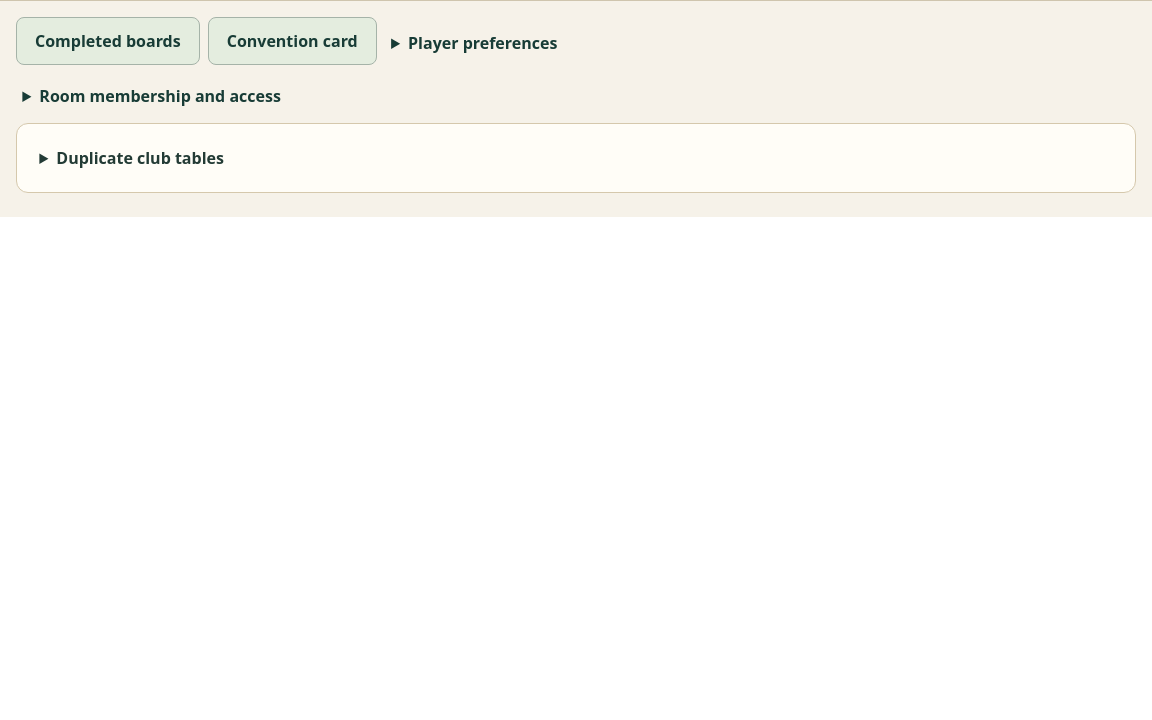
Test case: duplicate club membership and comparison release › hides frozen membership mutation controls in waiting event rooms
Click the heading "Room membership and access".
click(160, 96)  # box [39, 85, 281, 107]
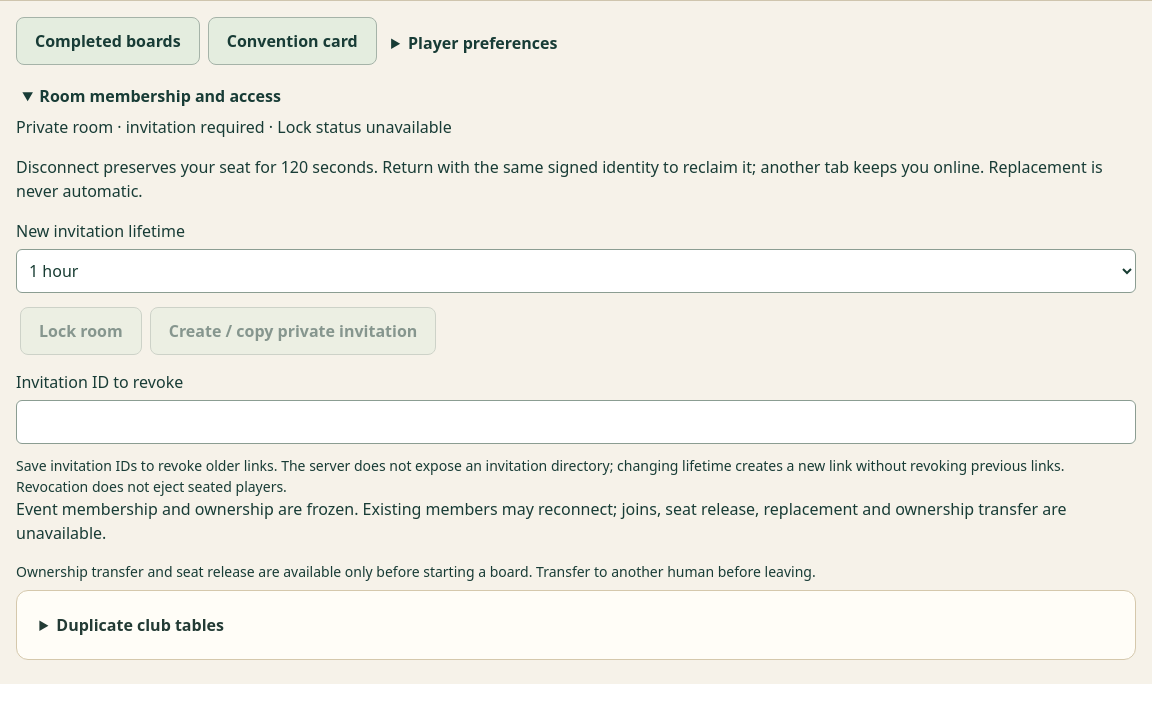
Result: the button "Create / copy private invitation" is disabled at [150, 307, 436, 355]
Result: the text "Event membership and ownership are frozen" is shown at [16, 498, 1066, 544]
